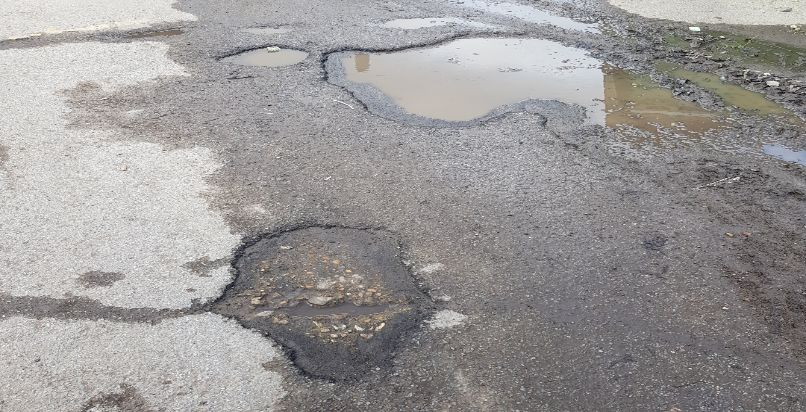pothole: (318, 28, 734, 154), (206, 215, 449, 393), (213, 38, 316, 71)
